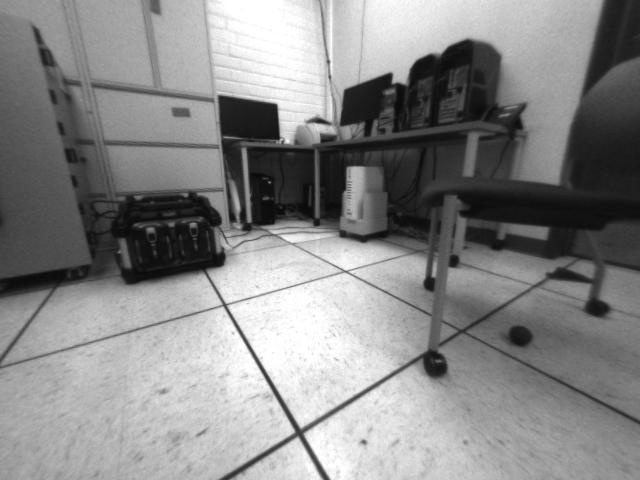dogtoy: (502, 317, 538, 350)
